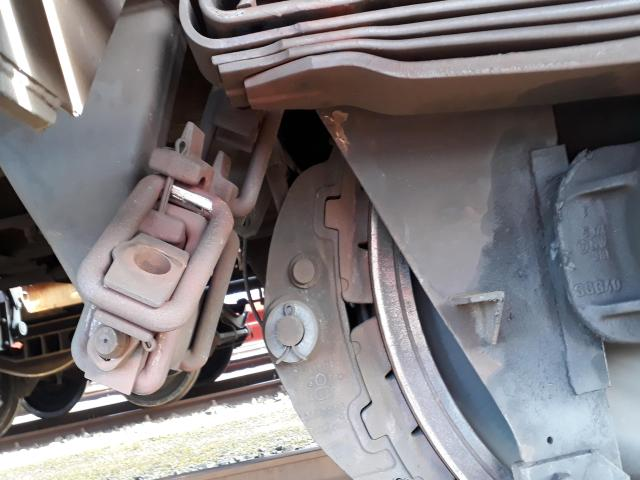blattfederww: (164, 7, 633, 94)
